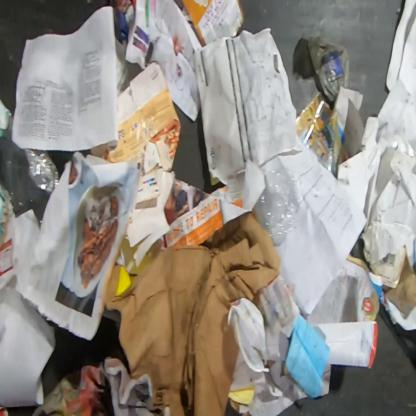cardboard: (102, 211, 282, 416), (336, 114, 415, 269), (89, 60, 182, 175), (383, 253, 415, 319)
rigid_plastic: (114, 141, 177, 276), (0, 110, 60, 226)
soft_plastic: (252, 166, 300, 248), (307, 34, 351, 104)
